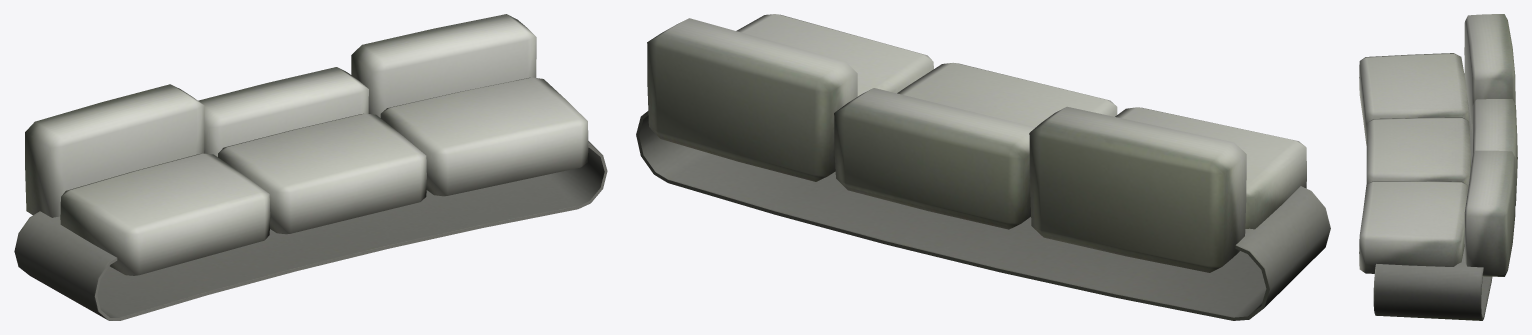
Rendered from NetW_Chair3P02_white.FBX.
The picture shows the model from 3 angles, left to right: view 1: azimuth 30°, elevation 25°; view 2: azimuth 150°, elevation 25°; view 3: azimuth 270°, elevation 25°; orthographic projection. The views are drawn at different scales.
Visible parts, largest first — view 1: NetW_Chair3P01; view 2: NetW_Chair3P01; view 3: NetW_Chair3P01.
Boxes of the visible parts, bbox=[...] form: NetW_Chair3P01: bbox=[14, 14, 607, 320]; NetW_Chair3P01: bbox=[636, 14, 1330, 320]; NetW_Chair3P01: bbox=[1359, 14, 1517, 320].
Bounding box in the file's own units: 2.96 × 0.7548 × 0.928.
